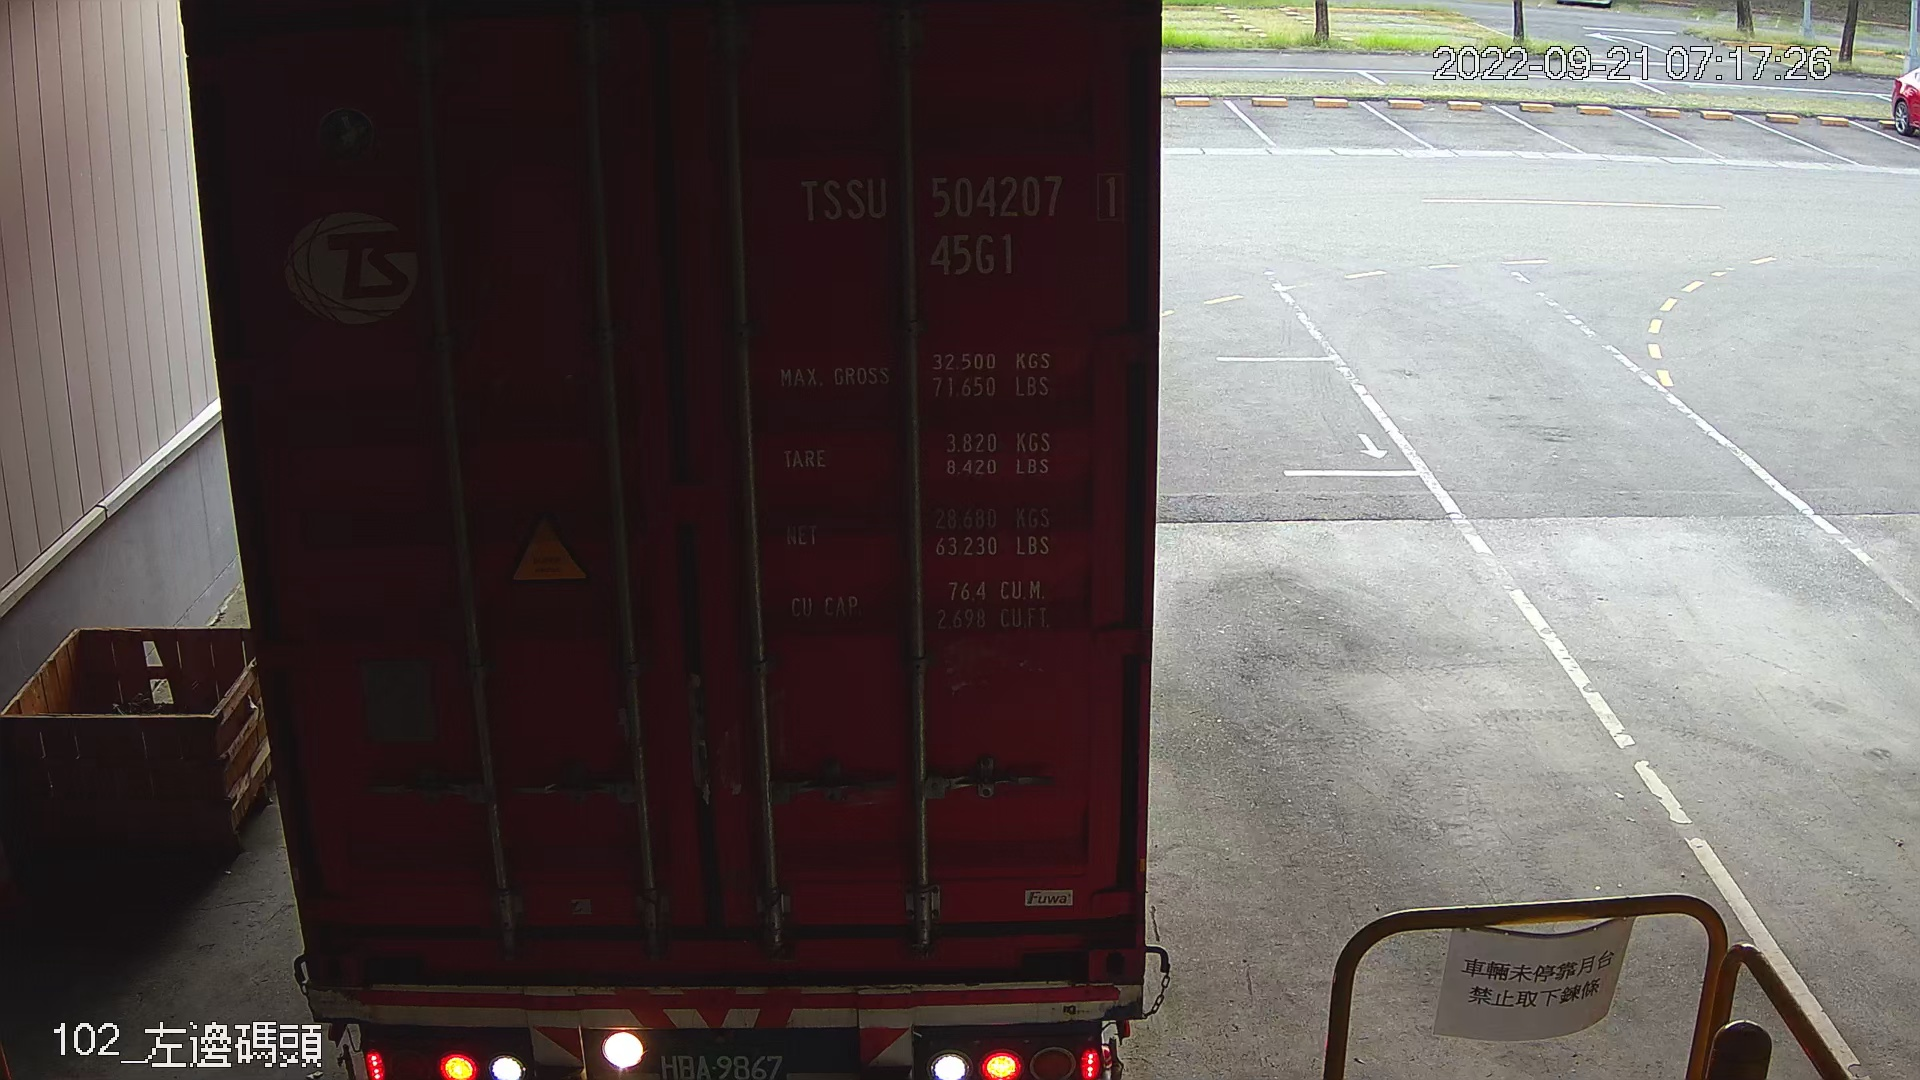container: (782, 161, 1138, 284)
